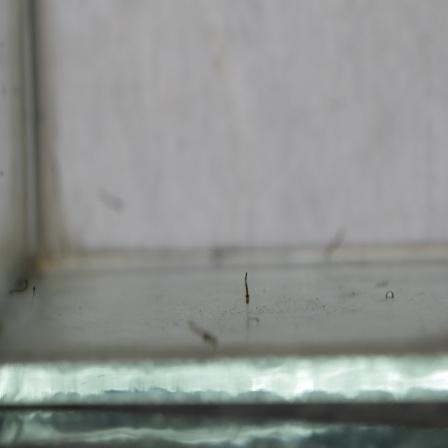Jentik-Nyamuk: (240, 268, 253, 307)
